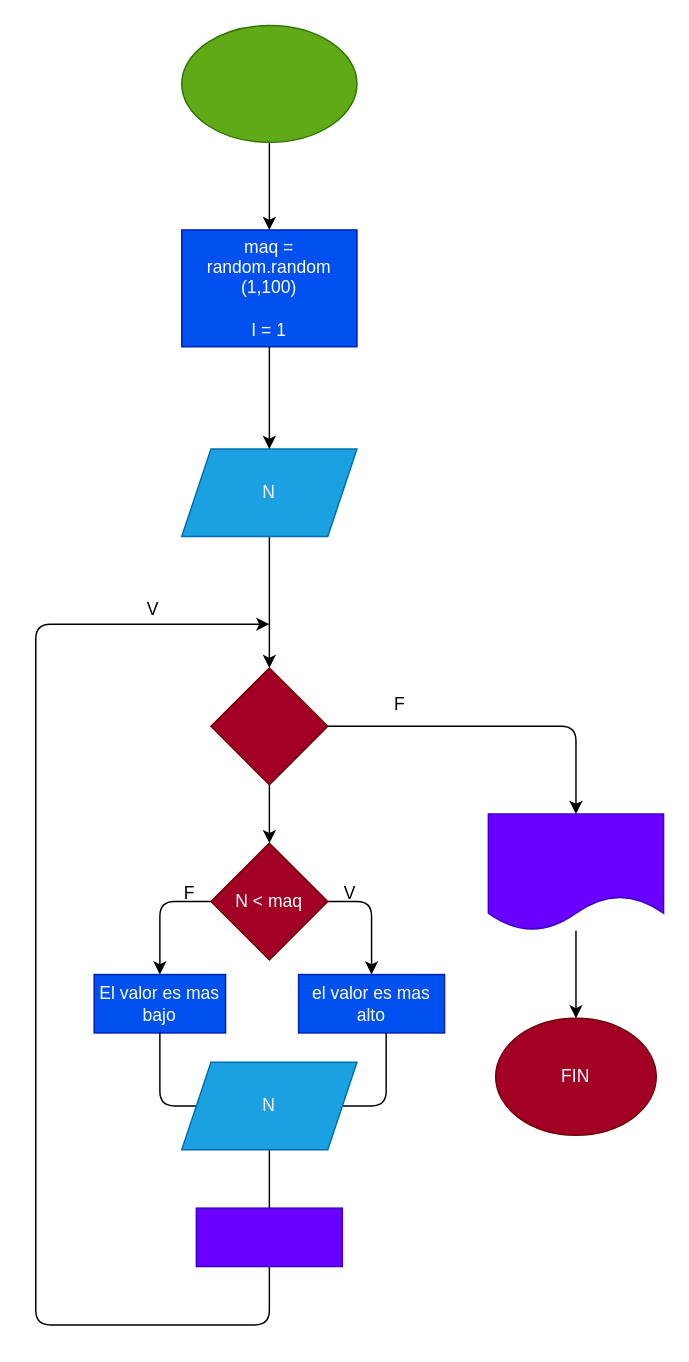
The diagram is 689 pixels wide and 1362 high, and some of its shapes have lost their labels. The box of each missing label's shape, as (x1, y1, x2, y2) in pixels:
I = I +1: (195, 1207, 342, 1267)
INICIO: (180, 24, 357, 142)
Le atinaste: (487, 812, 664, 931)
N != maq: (210, 666, 328, 785)
